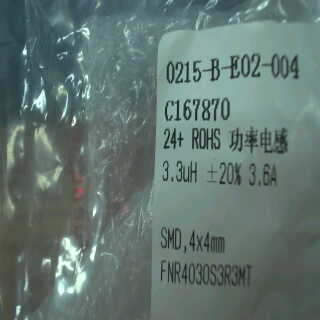3.3uH: (150, 152, 212, 197)
